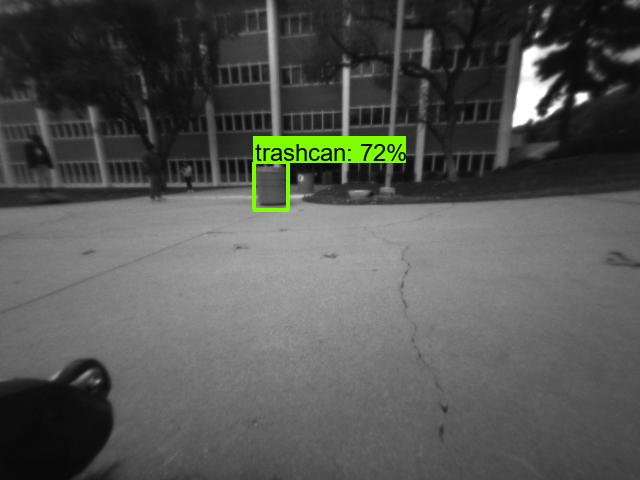trashcan: (253, 164, 287, 206)
